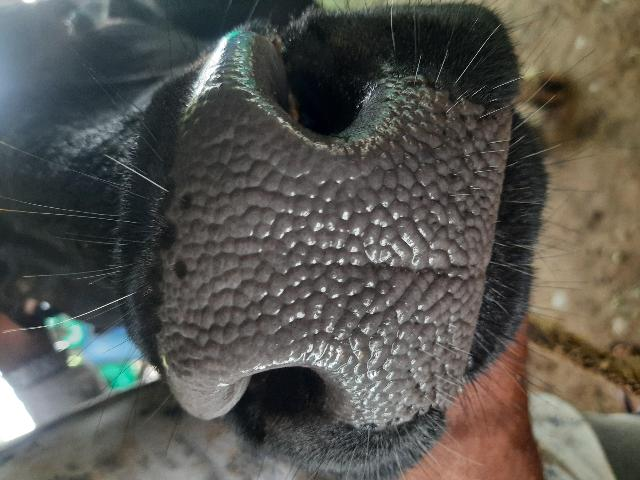Muzzle: (185, 109, 475, 377)
